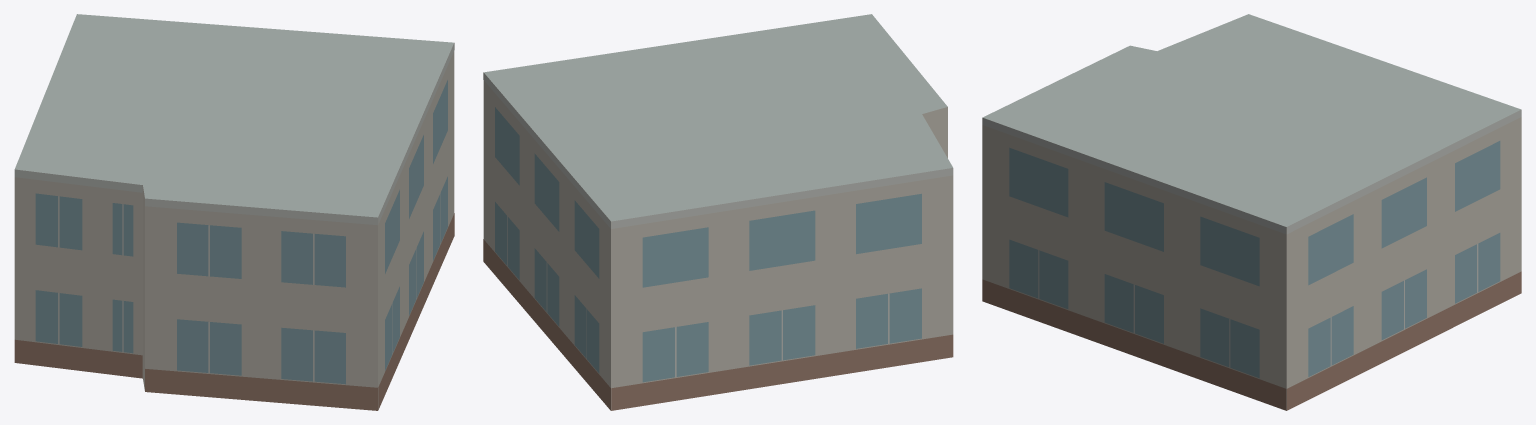
Rendered from survey-upis-32490885.glb.
3 views of the same model, side by side, from view 1: azimuth 30°, elevation 25°; view 2: azimuth 150°, elevation 25°; view 3: azimuth 270°, elevation 25° (orthographic). The views are drawn at different scales.
Visible parts, largest first — view 1: survey-upis-32490885.tmp; view 2: survey-upis-32490885.tmp; view 3: survey-upis-32490885.tmp.
Boxes of the visible parts, left/top/right/bottom form: survey-upis-32490885.tmp: left=14, top=14, right=454, bottom=410; survey-upis-32490885.tmp: left=483, top=14, right=953, bottom=410; survey-upis-32490885.tmp: left=982, top=14, right=1521, bottom=410.
Size of the model in its own units: 15.19 by 6.1 by 16.23.
